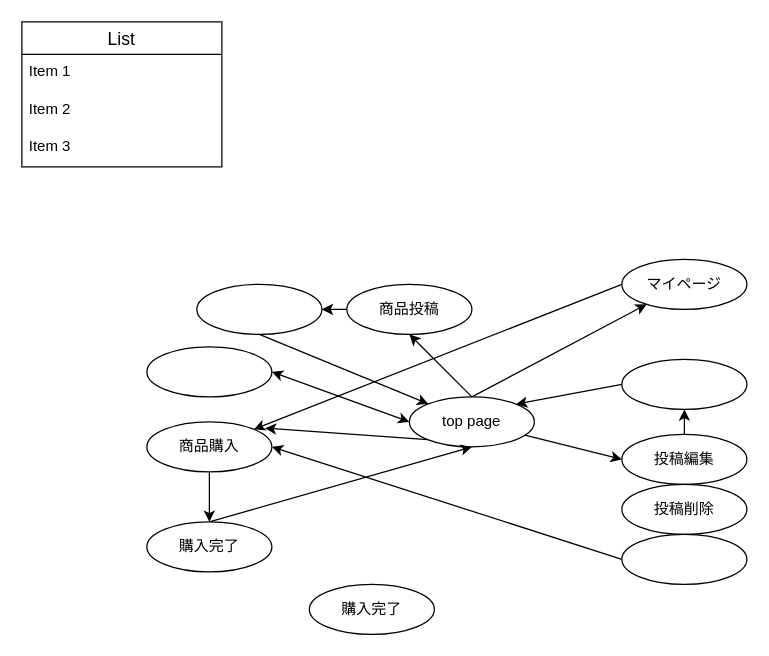
Image size: 769x656. Some labels were removed from this diagram. Here are the shapes that lost their labels. From the top down, the centre of each, then its label:
At point 259,308: "投稿完了".
At point 209,371: "サインイン".
At point 684,383: "商品編集完了".
At point 684,558: "投稿詳細".
